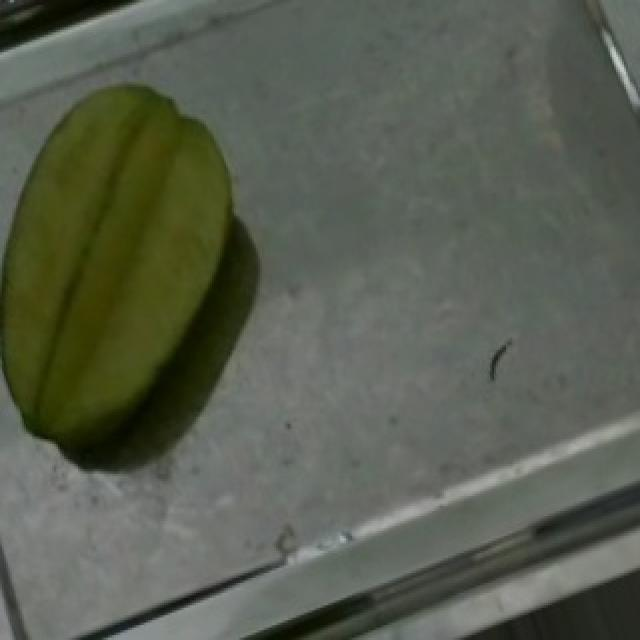fruit: (2, 44, 296, 417)
